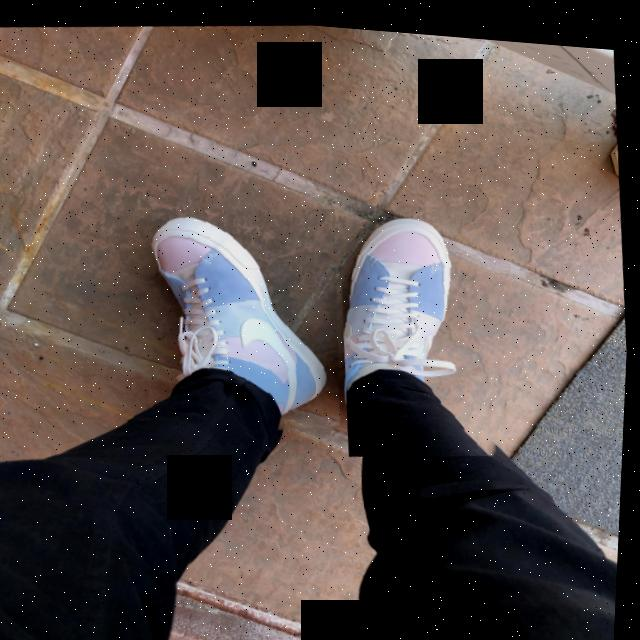shoe: (112, 189, 356, 450), (331, 186, 526, 460)
